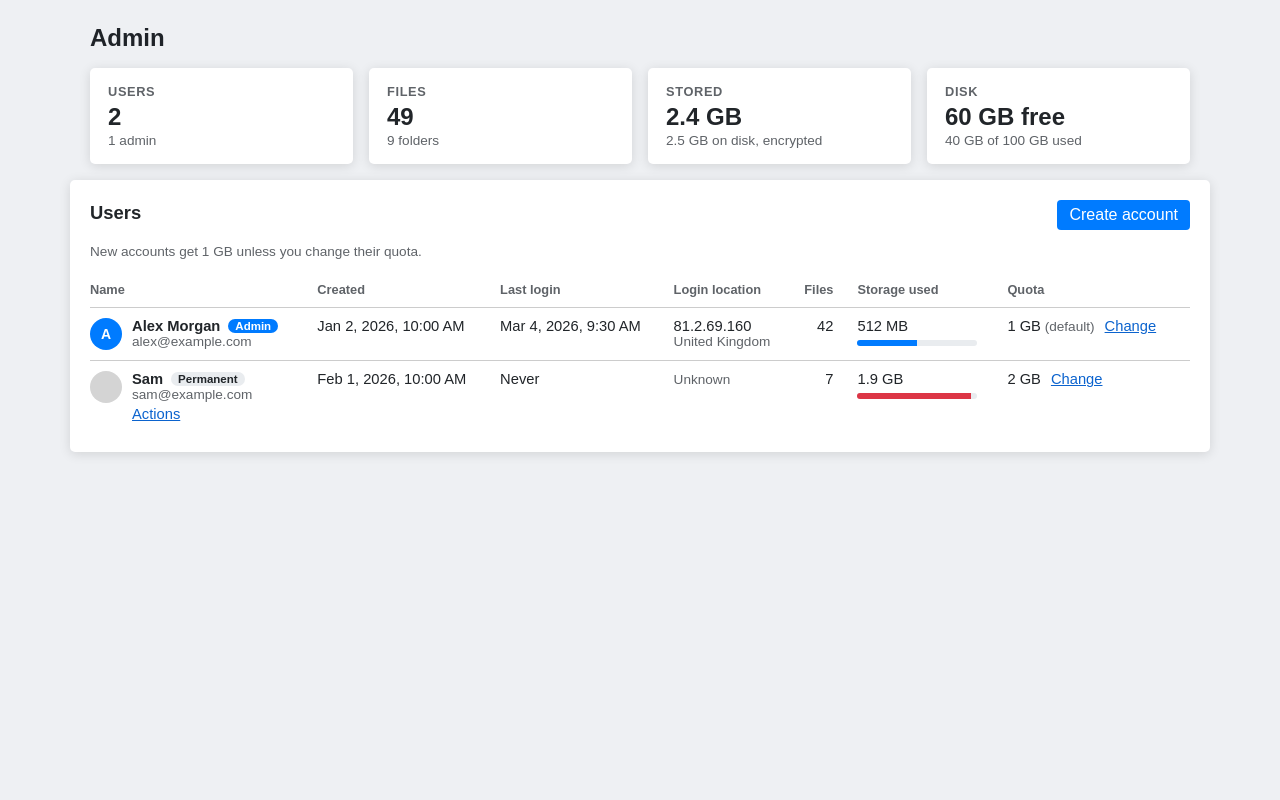
Admin page › set password › shows the server's message and stays open when it refuses
Click the button with aria-label "Actions for sam@example.com" at [156, 414], box [132,406,180,422]
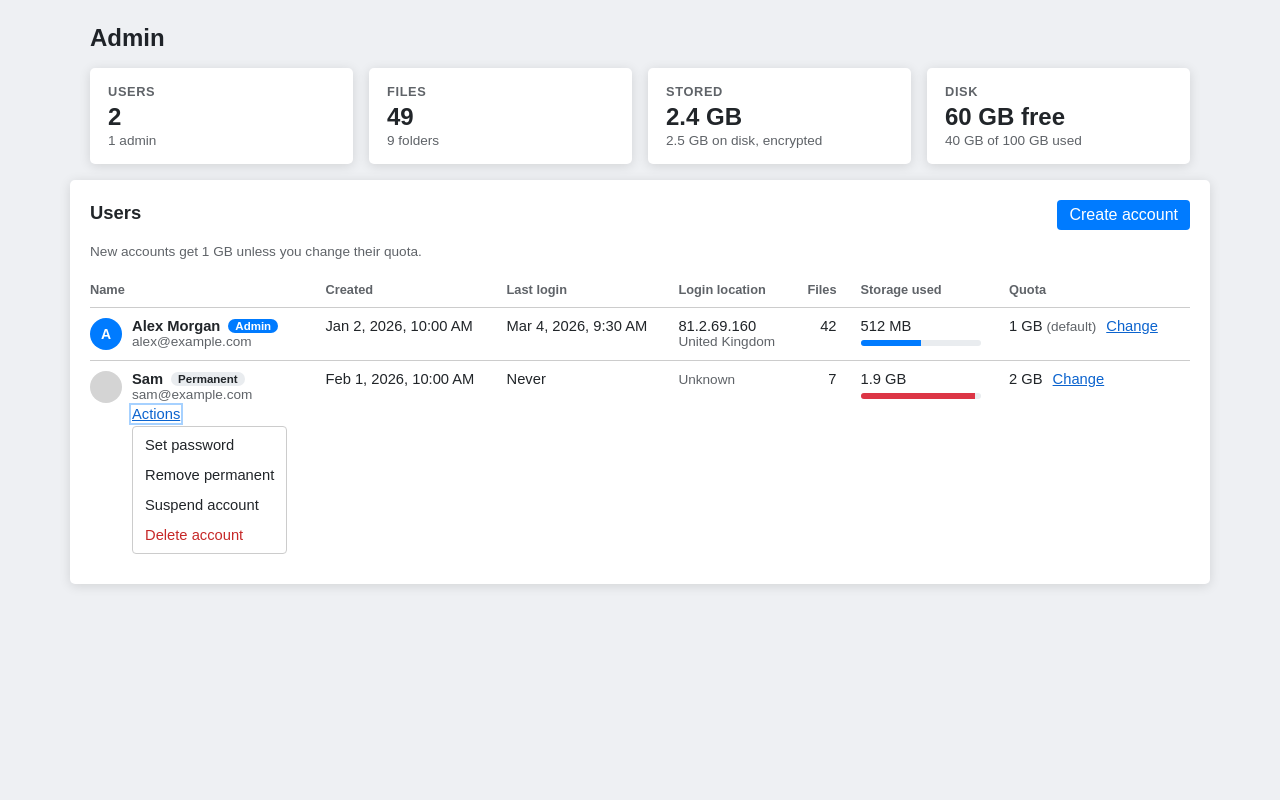
Click the menu item "Set password" at [190, 445], box [137,431,242,459]
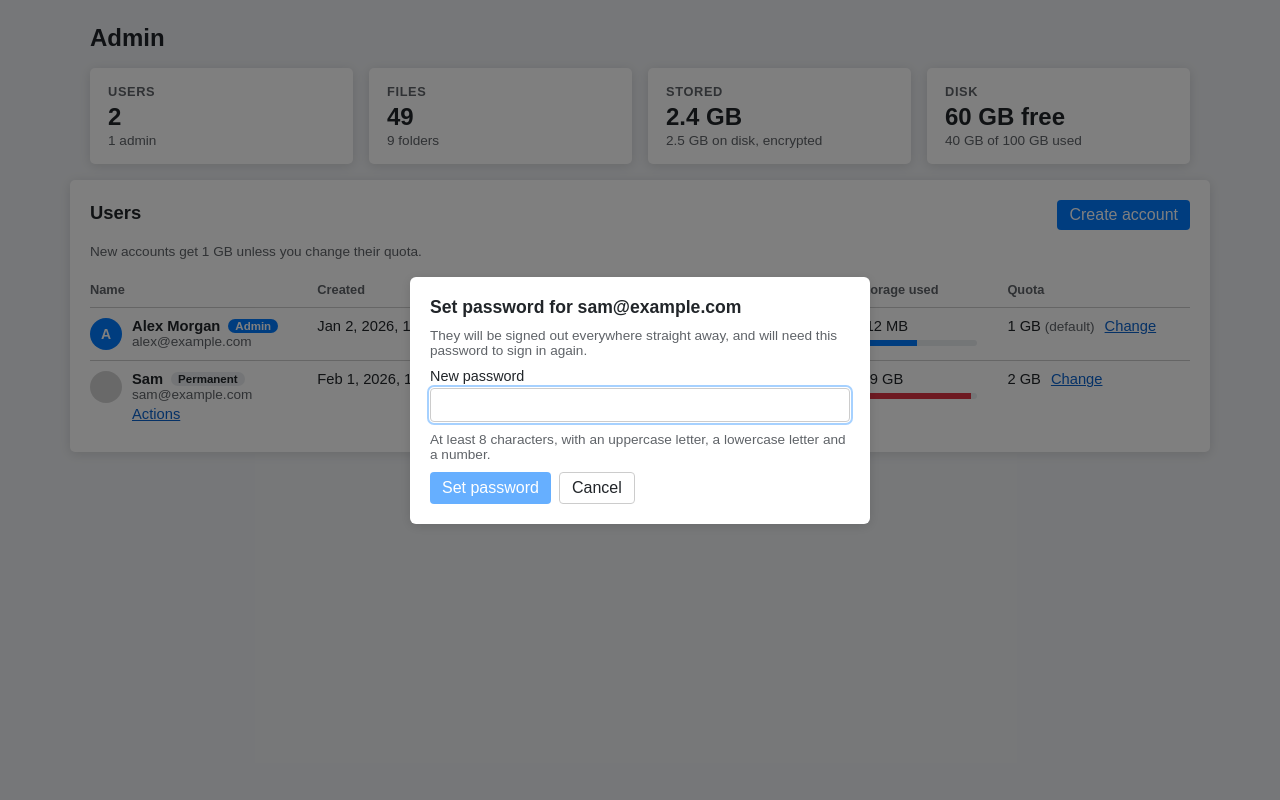
Type "N3wPassword" into the password field labelled "New password" at [640, 404], box [430,388,850,422]
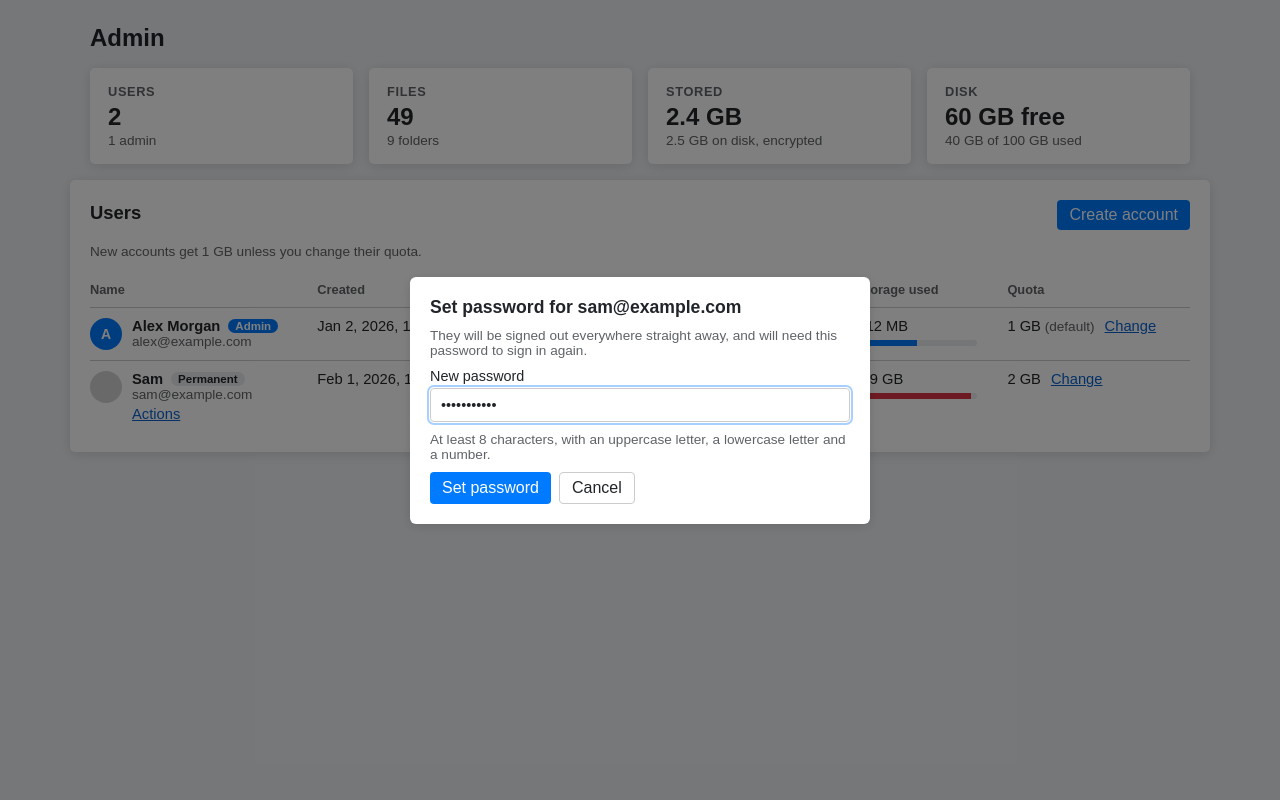
Click the button "Set password" at [490, 488], box [430,472,551,504]
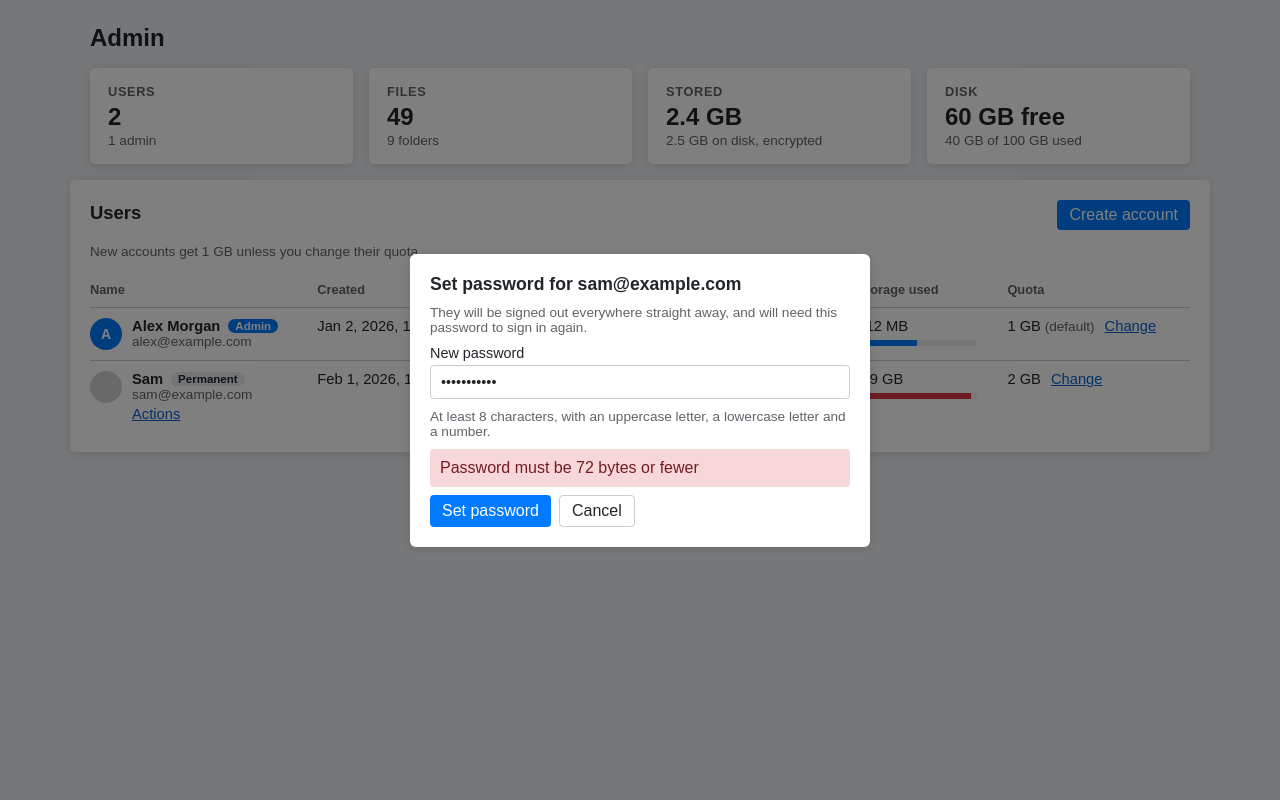
Expected: the message reads "Password must be 72 bytes or fewer", [440,458,699,476]
